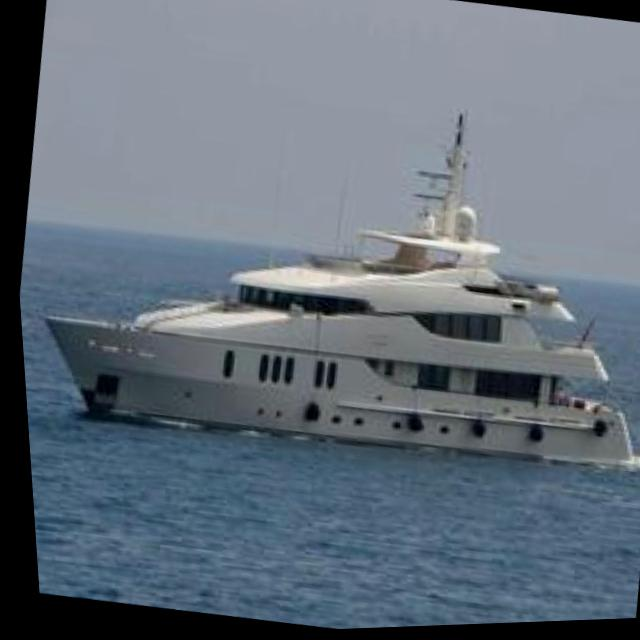ship2: (43, 119, 631, 475)
